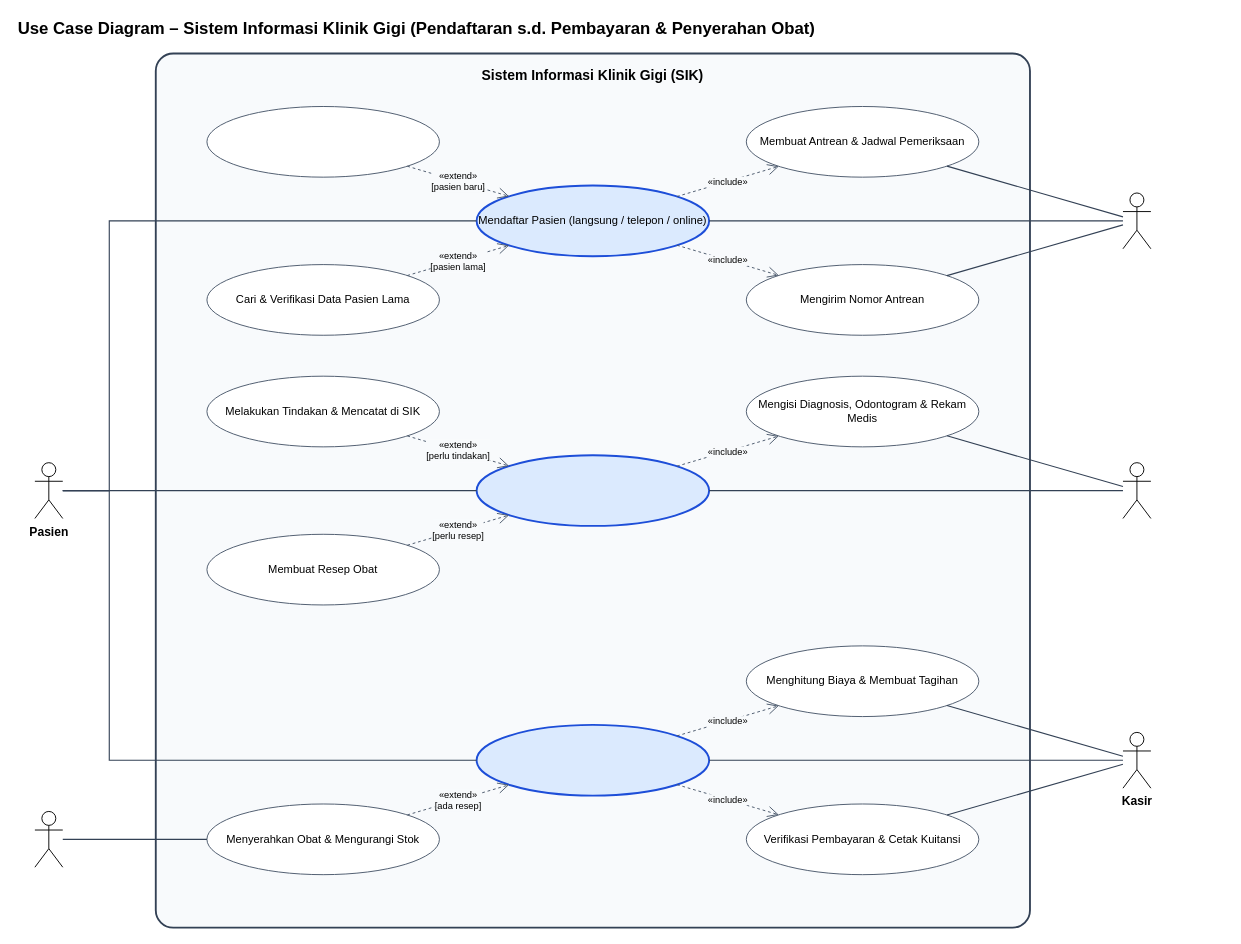
This 1241x944 diagram has some shape labels left out. The shapes that lost their labels are listed below. From the top down, each one's centre as x and y in pixels, then its label:
At (322,141): "Input Data Pasien Baru & Buat No. Rekam Medis".
At (1136,220): "Resepsionis".
At (592,490): "Pemeriksaan Pasien (Anamnesis & Pemeriksaan Klinis)".
At (1136,490): "Dokter Gigi".
At (592,760): "Pembayaran Layanan".
At (48,838): "Apoteker".
